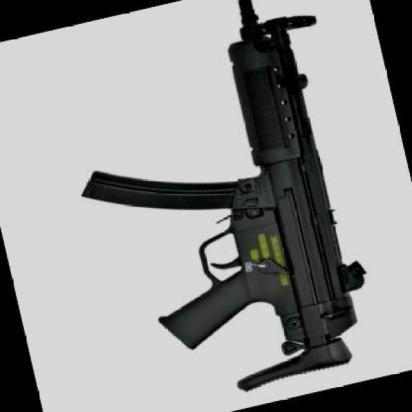Gun: (80, 0, 368, 391)
